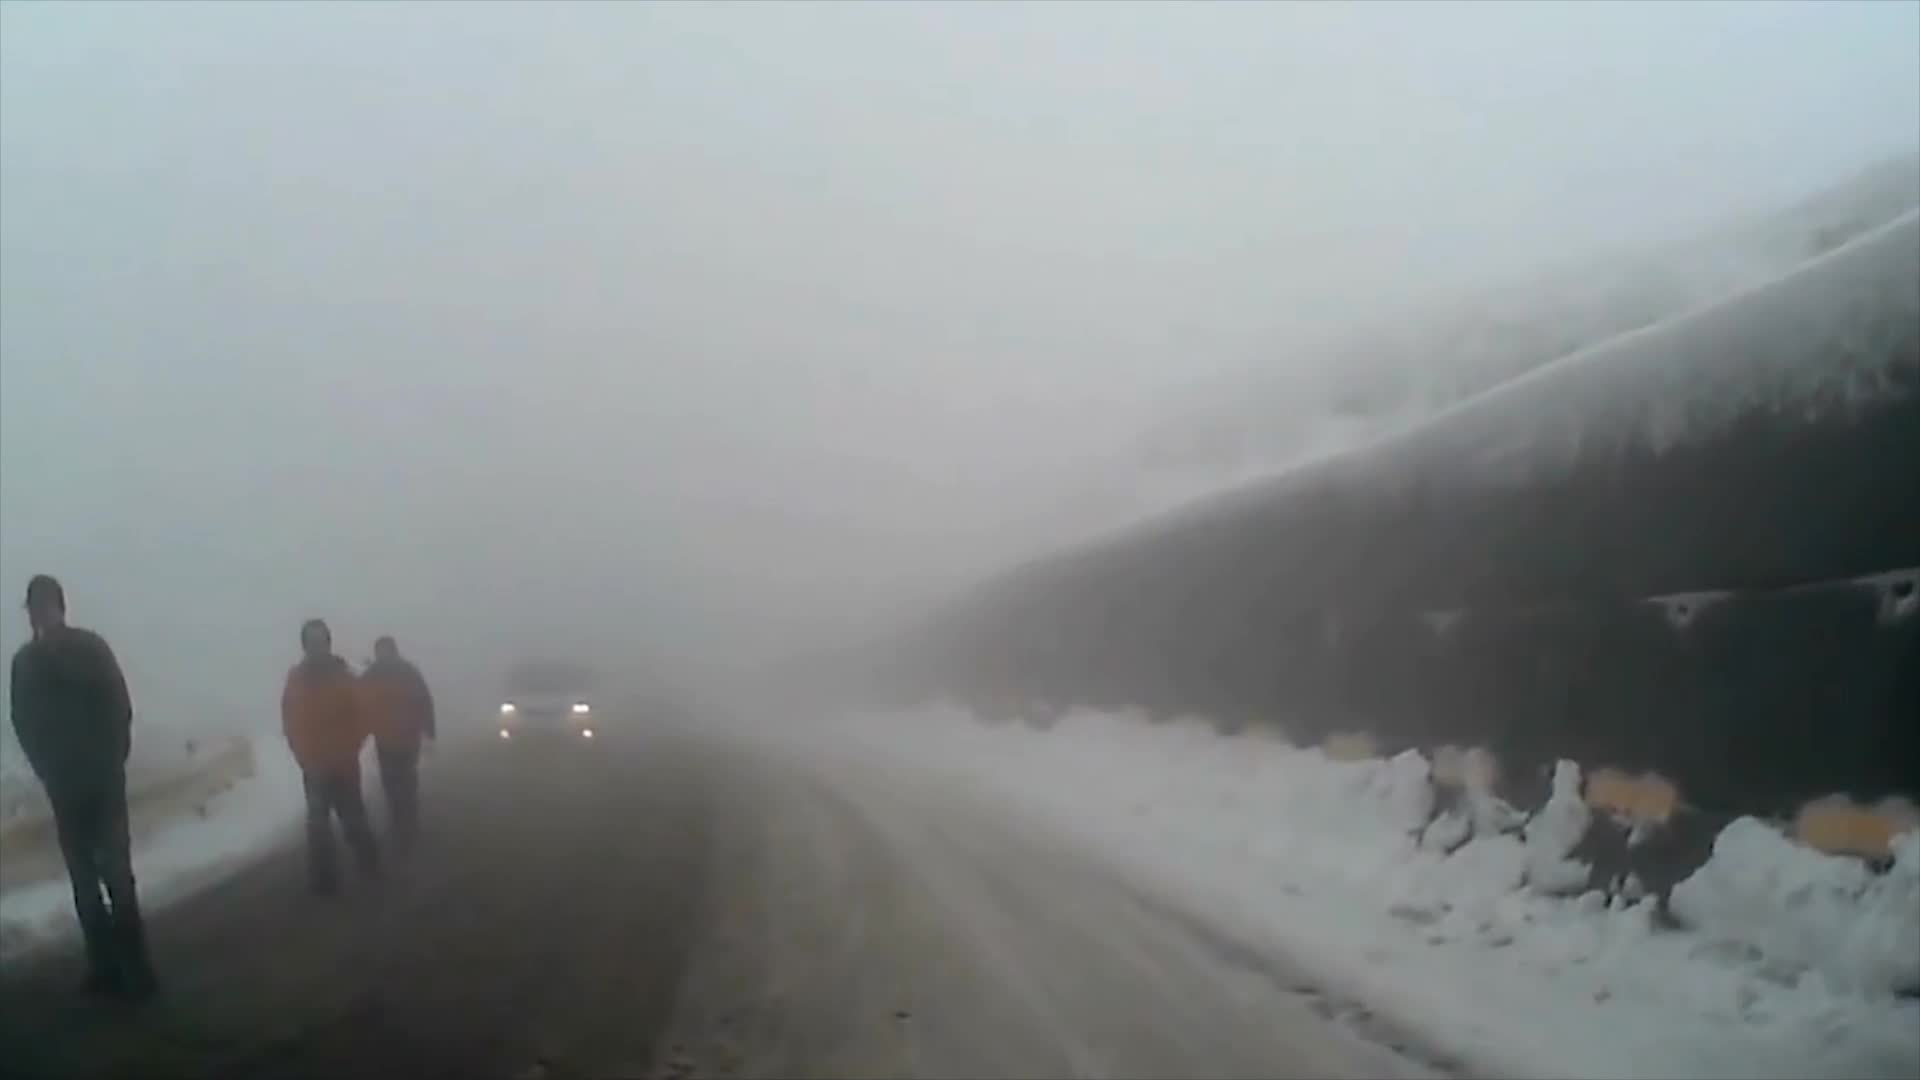pedestrian: (13, 578, 164, 998), (277, 619, 379, 896), (362, 633, 441, 856)
vehicle: (493, 657, 598, 755)
